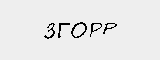Г: (56, 21, 69, 39)
З: (44, 20, 56, 42)
О: (70, 22, 90, 40)
Р: (101, 22, 119, 37), (89, 22, 103, 40)
